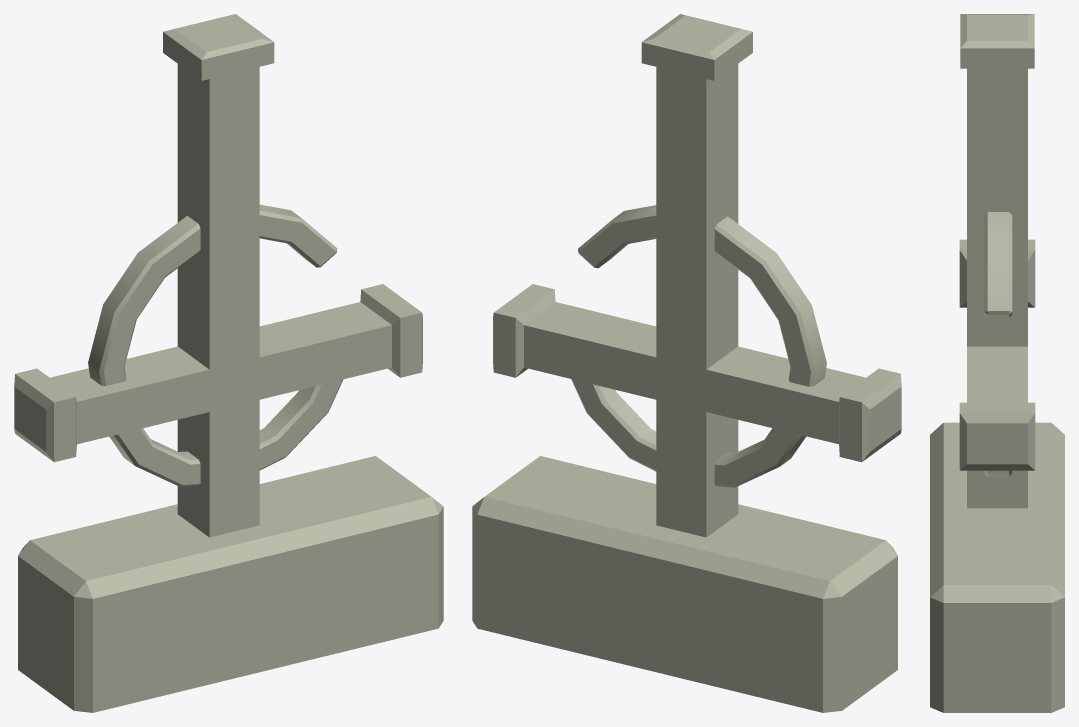
Rendered from Lapida_2_FBX.fbx.
The picture shows the model from 3 angles, left to right: view 1: azimuth 30°, elevation 25°; view 2: azimuth 150°, elevation 25°; view 3: azimuth 270°, elevation 25°; orthographic projection. The views are drawn at different scales.
Parts seen in each view (by area): view 1: Lapida_2; view 2: Lapida_2; view 3: Lapida_2.
Part boxes in pixels (x1=…): Lapida_2: x1=14, y1=14, x2=443, y2=712; Lapida_2: x1=472, y1=14, x2=901, y2=712; Lapida_2: x1=930, y1=14, x2=1064, y2=712.
Bounding box in the file's own units: 0.8928 × 1.36 × 0.2804.
